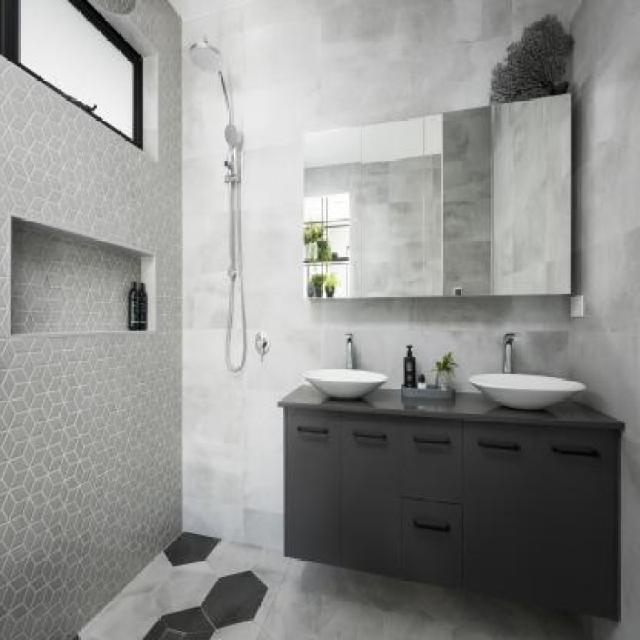floor: (73, 529, 623, 639)
